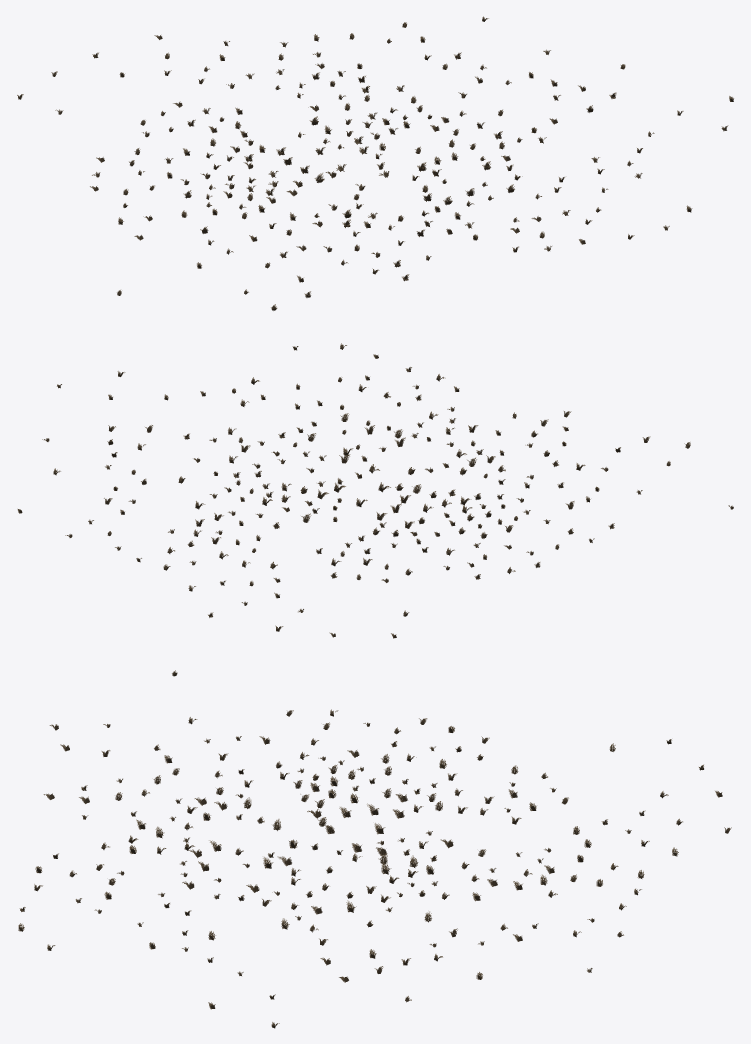
The model's file is plant_grass_01_02.fbx.
3 renders of one model, top to bottom at view 1: azimuth 30°, elevation 25°; view 2: azimuth 150°, elevation 25°; view 3: azimuth 270°, elevation 25°, orthographic. The views are drawn at different scales.
Visible parts, largest first — view 1: temp.001; view 2: temp.001; view 3: temp.001.
Boxes of the visible parts, bbox=[...] form: temp.001: bbox=[17, 16, 733, 310]; temp.001: bbox=[17, 343, 733, 638]; temp.001: bbox=[18, 670, 731, 1028].
Size of the model in its own units: 6648 by 124 by 5693.
